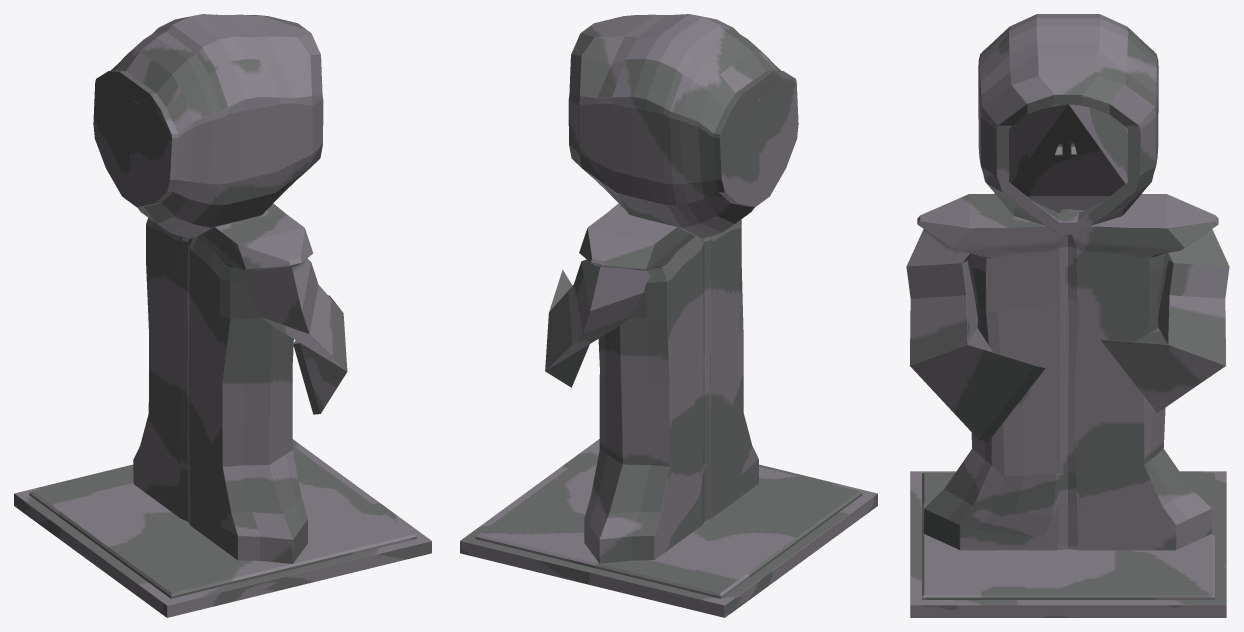
The model's file is Checkpoint_Statue.obj.
3 renders of one model, left to right at view 1: azimuth 30°, elevation 25°; view 2: azimuth 150°, elevation 25°; view 3: azimuth 270°, elevation 25°, orthographic. The views are drawn at different scales.
Visible parts, largest first — view 1: Cube.001; view 2: Cube.001; view 3: Cube.001.
Part boxes in pixels (x1,y1,x2,y2): Cube.001: (14, 14, 431, 617); Cube.001: (460, 14, 877, 617); Cube.001: (906, 14, 1229, 617).
Size of the model in its own units: 0.5 by 0.9127 by 0.5107.
1 material, 1 textured.
